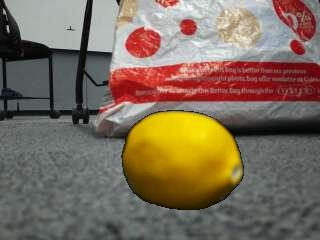lemon: (126, 113, 245, 210)
